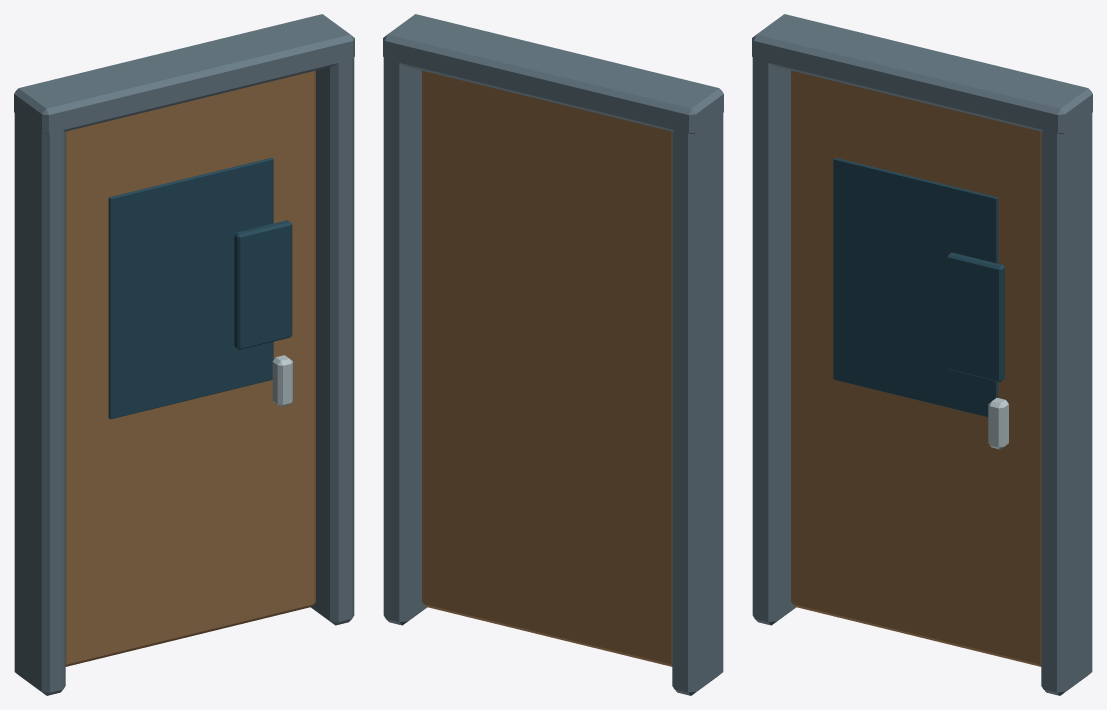
File: architecture-city-door.lod0.glb
3 renders of one model, left to right at view 1: azimuth 30°, elevation 25°; view 2: azimuth 150°, elevation 25°; view 3: azimuth 330°, elevation 25°, orthographic.
Parts seen in each view (by area): view 1: architecture-city-door__door, architecture-city-door__body; view 2: architecture-city-door__door, architecture-city-door__body; view 3: architecture-city-door__door, architecture-city-door__body.
Boxes of the visible parts, x1,y1,x2,y2 form: architecture-city-door__door: [65, 70, 315, 666]; architecture-city-door__body: [14, 14, 354, 695]; architecture-city-door__door: [422, 70, 672, 666]; architecture-city-door__body: [383, 14, 723, 695]; architecture-city-door__door: [791, 70, 1041, 666]; architecture-city-door__body: [752, 14, 1092, 695].
Size of the model in its own units: 1.42 by 2.55 by 0.26.
